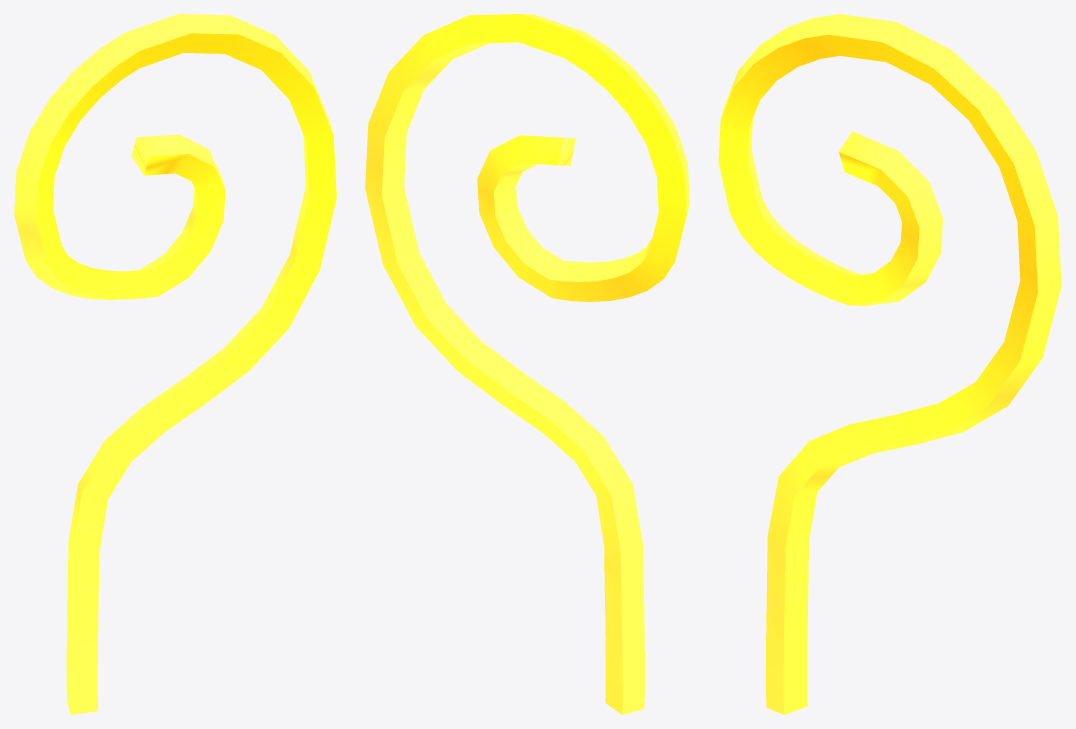
Rendered from lightweed2.fbx.
3 views of the same model, side by side, from view 1: azimuth 30°, elevation 25°; view 2: azimuth 150°, elevation 25°; view 3: azimuth 330°, elevation 25° (orthographic). The views are drawn at different scales.
Parts seen in each view (by area): view 1: BezierCurve.frozen.002; view 2: BezierCurve.frozen.002; view 3: BezierCurve.frozen.002.
Part boxes in pixels (<box>): BezierCurve.frozen.002: <box>14,14,336,714</box>; BezierCurve.frozen.002: <box>365,14,689,714</box>; BezierCurve.frozen.002: <box>718,14,1061,714</box>.
Size of the model in its own units: 56.23 by 112 by 5.56.
Materials: 1 (1 with a texture image).
